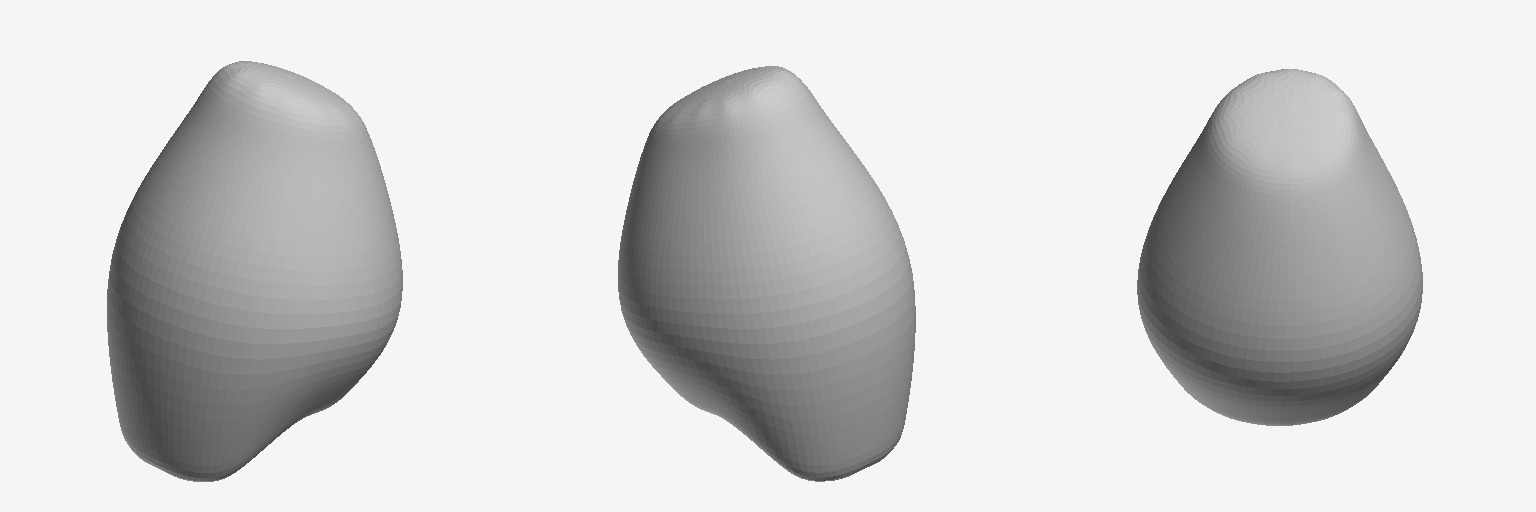
Rendered from lowarmR.obj.
3 renders of one model, left to right at view 1: azimuth 30°, elevation 25°; view 2: azimuth 150°, elevation 25°; view 3: azimuth 270°, elevation 25°, orthographic.
Parts seen in each view (by area): view 1: polySurface17 uploads_files_[number redacted]_Guts_man:Mesh; view 2: polySurface17 uploads_files_[number redacted]_Guts_man:Mesh; view 3: polySurface17 uploads_files_[number redacted]_Guts_man:Mesh.
Part boxes in pixels (bbox=[...]): polySurface17 uploads_files_[number redacted]_Guts_man:Mesh: bbox=[107, 61, 402, 481]; polySurface17 uploads_files_[number redacted]_Guts_man:Mesh: bbox=[618, 66, 915, 481]; polySurface17 uploads_files_[number redacted]_Guts_man:Mesh: bbox=[1137, 69, 1422, 425].
Bounding box in the file's own units: 0.3648 × 0.4887 × 0.3481.